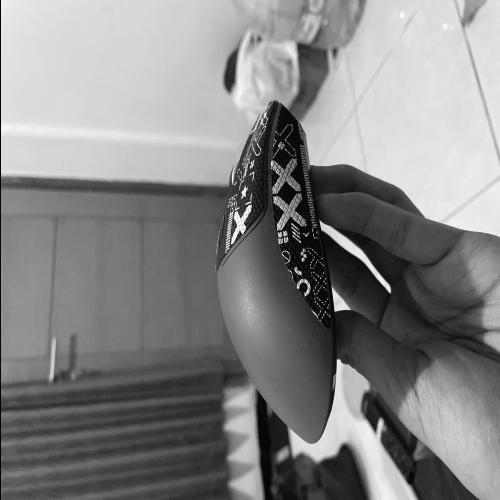mouse: (204, 87, 342, 454)
